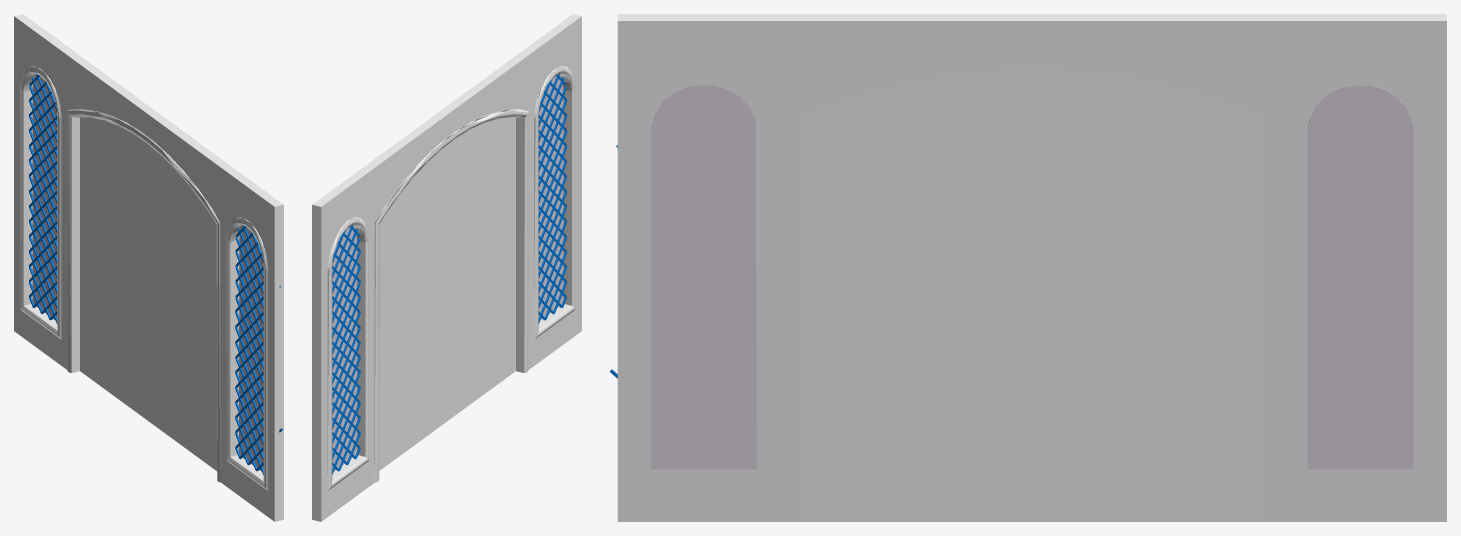
Rendered from beijingqiang.FBX.
3 views of the same model, side by side, from view 1: azimuth 30°, elevation 25°; view 2: azimuth 150°, elevation 25°; view 3: azimuth 270°, elevation 25° (orthographic). The views are drawn at different scales.
Visible parts, largest first — view 1: Layer:114, Layer:0, Layer:001, Layer:113, pCube39, pCube40; view 2: Layer:114, Layer:0, Layer:001, Layer:113, pCube40, pCube39; view 3: Layer:114, Layer:0, Layer:113.
Part boxes in pixels (x1,y1,x2,y2): Layer:114: (80, 117, 217, 471); Layer:0: (14, 14, 283, 521); Layer:001: (20, 66, 268, 490); Layer:113: (32, 75, 263, 471); pCube39: (29, 74, 57, 324); pCube40: (235, 225, 282, 475); Layer:114: (379, 117, 515, 470); Layer:0: (312, 14, 581, 521); Layer:001: (327, 66, 575, 490); Layer:113: (332, 76, 563, 471); pCube40: (538, 74, 566, 323); pCube39: (332, 225, 360, 474); Layer:114: (800, 68, 1263, 521); Layer:0: (617, 14, 1446, 521); Layer:113: (651, 85, 1413, 469).
Bounding box in the file's own units: 9.31 × 266 × 403.
